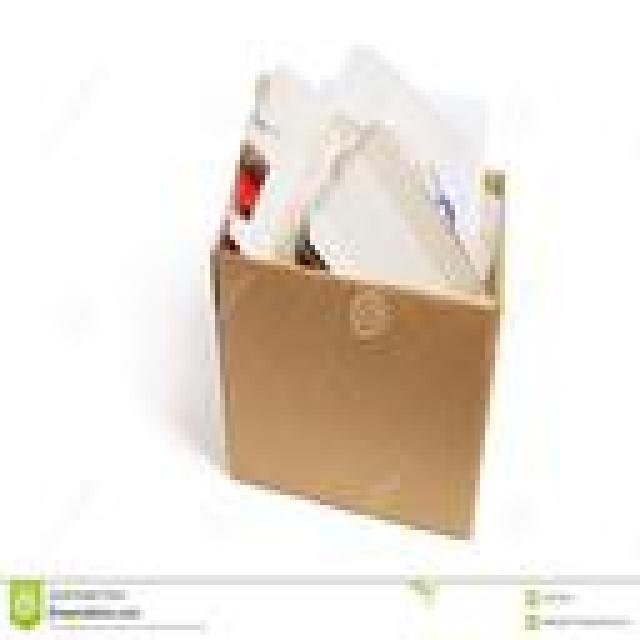Cardboard: (220, 242, 497, 545)
